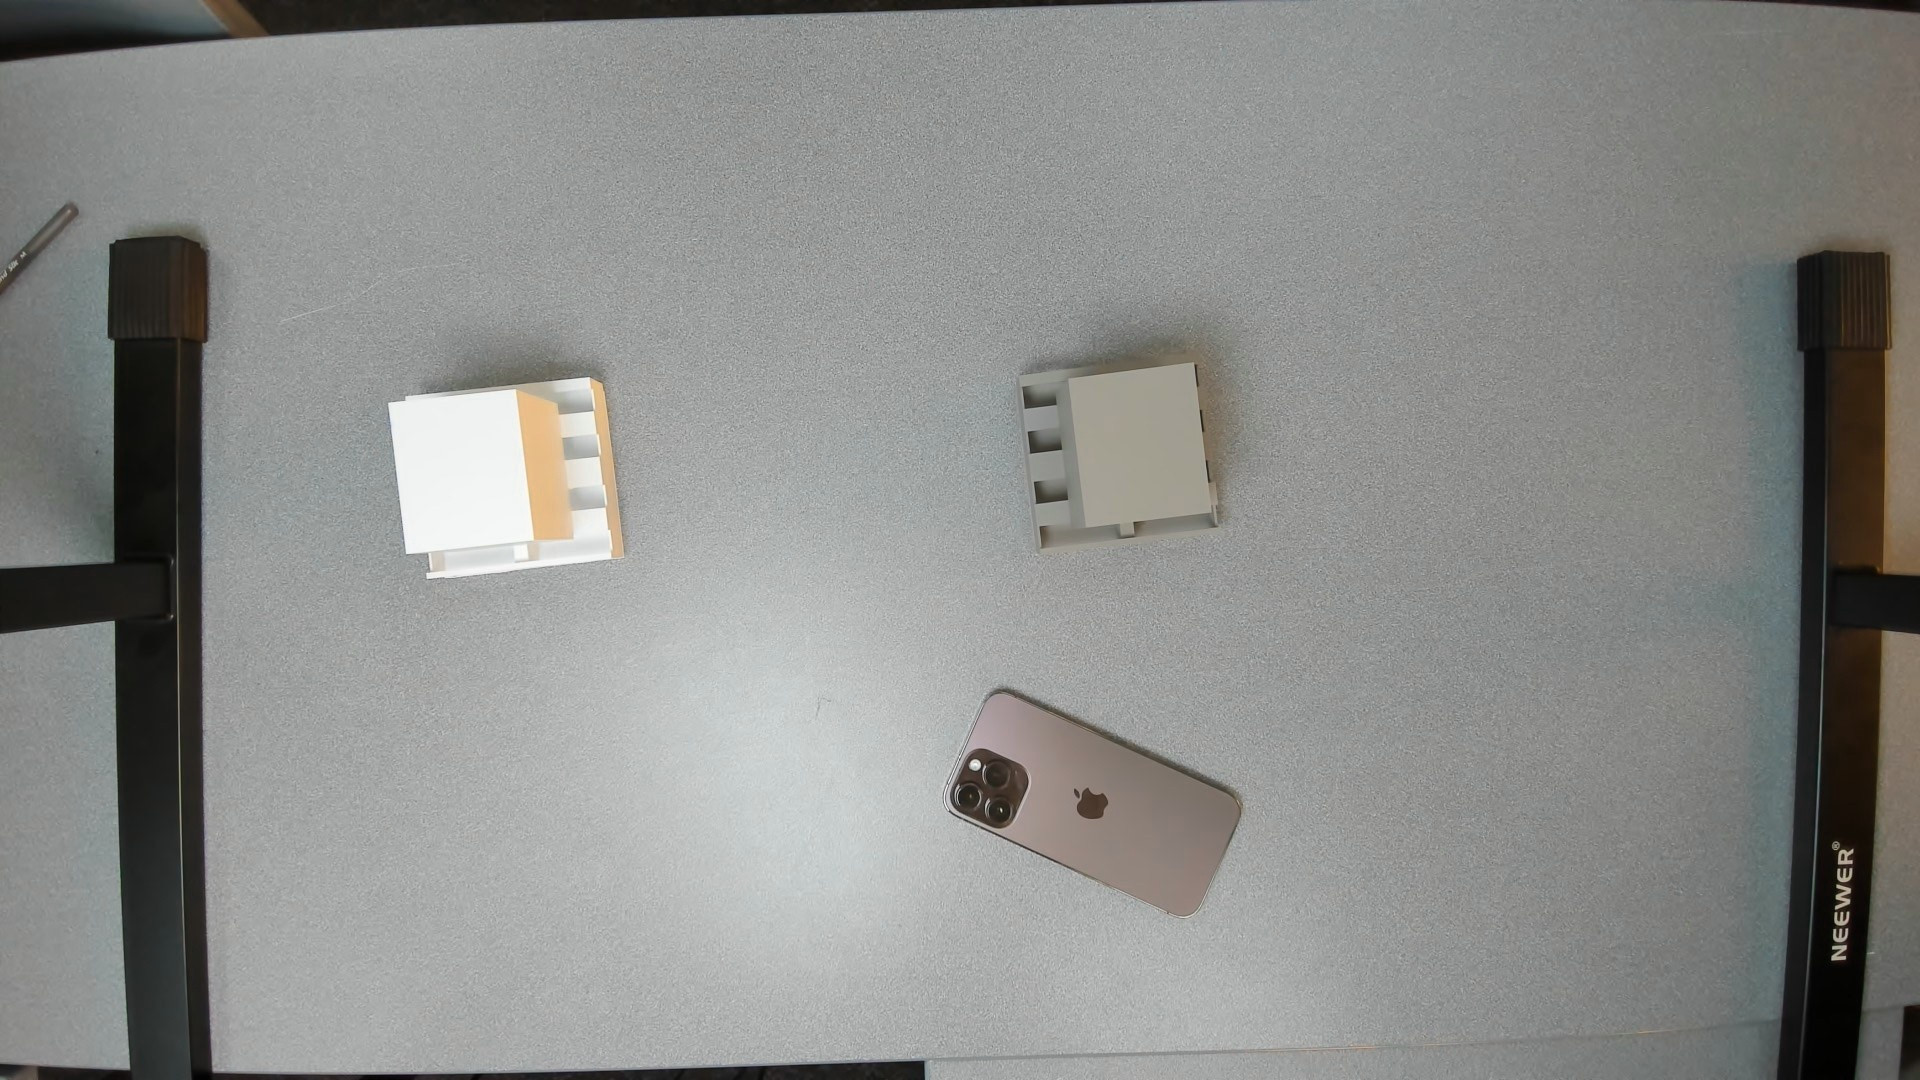grey pallet: (997, 342, 1245, 571)
white pallet: (371, 367, 646, 600)
